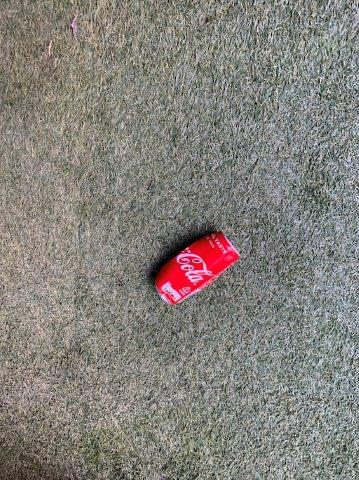kaleng: (156, 233, 239, 304)
